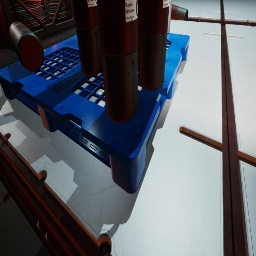0: (167, 0, 172, 34)
NitrogenTank ,: (97, 0, 138, 123), (138, 0, 170, 91), (72, 0, 102, 76), (9, 21, 44, 72), (171, 4, 188, 21), (138, 0, 138, 64)
